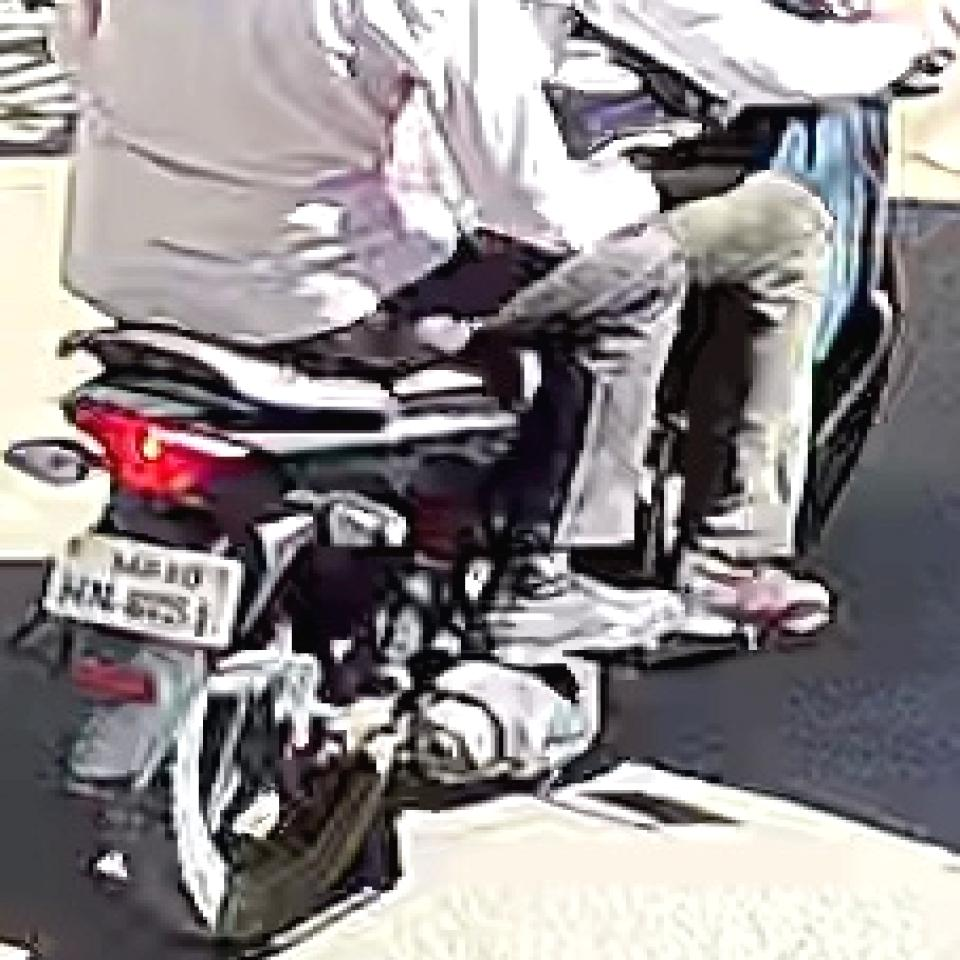tail_light: (69, 404, 246, 505)
